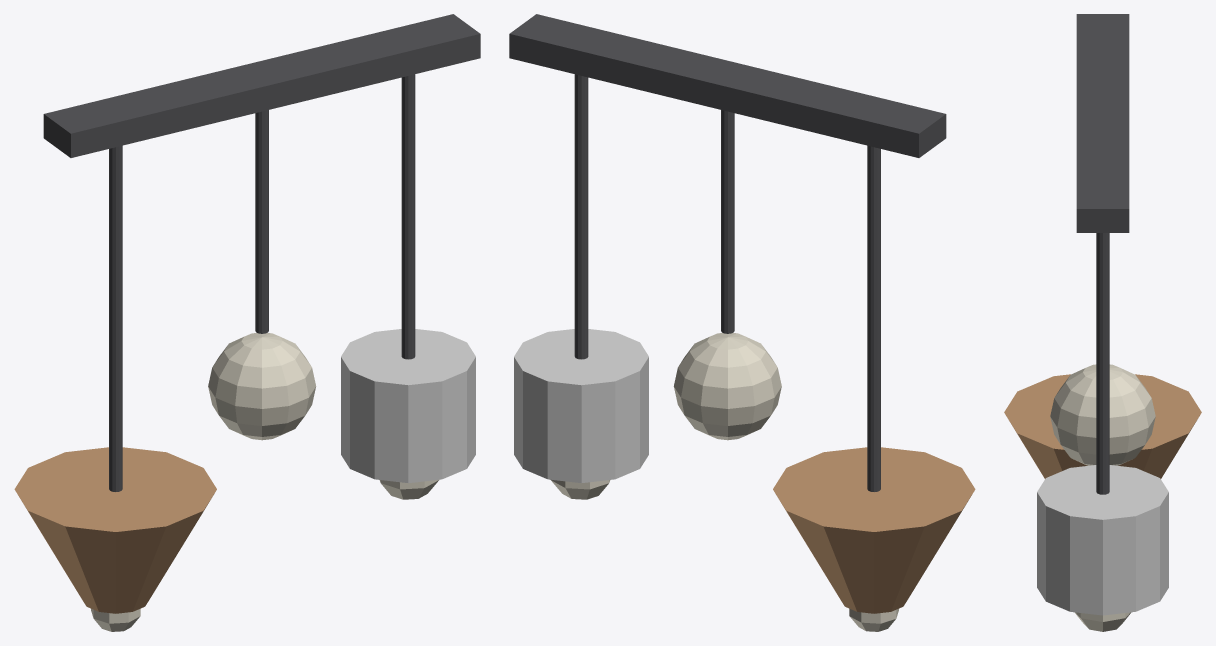
Rendered from ilu_pendente_triplo.glb.
3 views of the same model, side by side, from view 1: azimuth 30°, elevation 25°; view 2: azimuth 150°, elevation 25°; view 3: azimuth 270°, elevation 25° (orthographic). The views are drawn at different scales.
Visible parts, largest first — view 1: ILU_Pendente_Triplo_v01; view 2: ILU_Pendente_Triplo_v01; view 3: ILU_Pendente_Triplo_v01.
Part boxes in pixels (<box>): ILU_Pendente_Triplo_v01: <box>14,14,480,631</box>; ILU_Pendente_Triplo_v01: <box>509,14,975,631</box>; ILU_Pendente_Triplo_v01: <box>1004,14,1201,631</box>.
Size of the model in its own units: 0.75 by 0.85 by 0.3.
